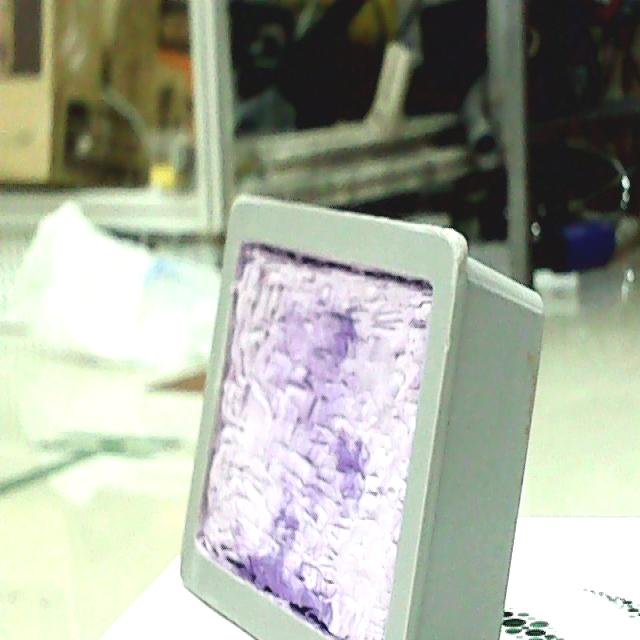block: (177, 188, 545, 640)
